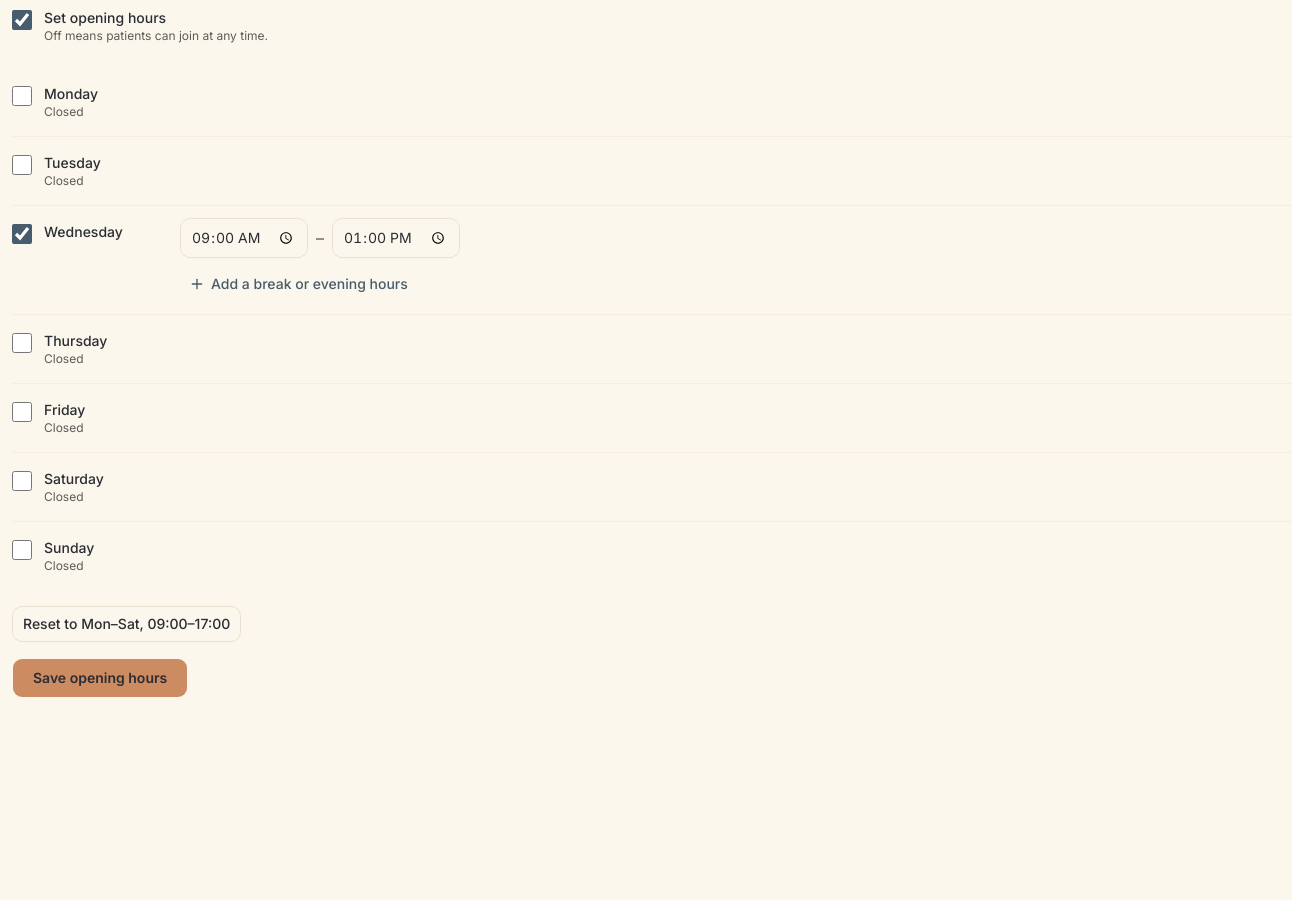
Test: OpeningHoursEditor › shows the problem next to the day and doesn't save
Replace the text in the time field named "Wednesday closing 1" with "08:00" at [396, 238], box [332,218,460,258]
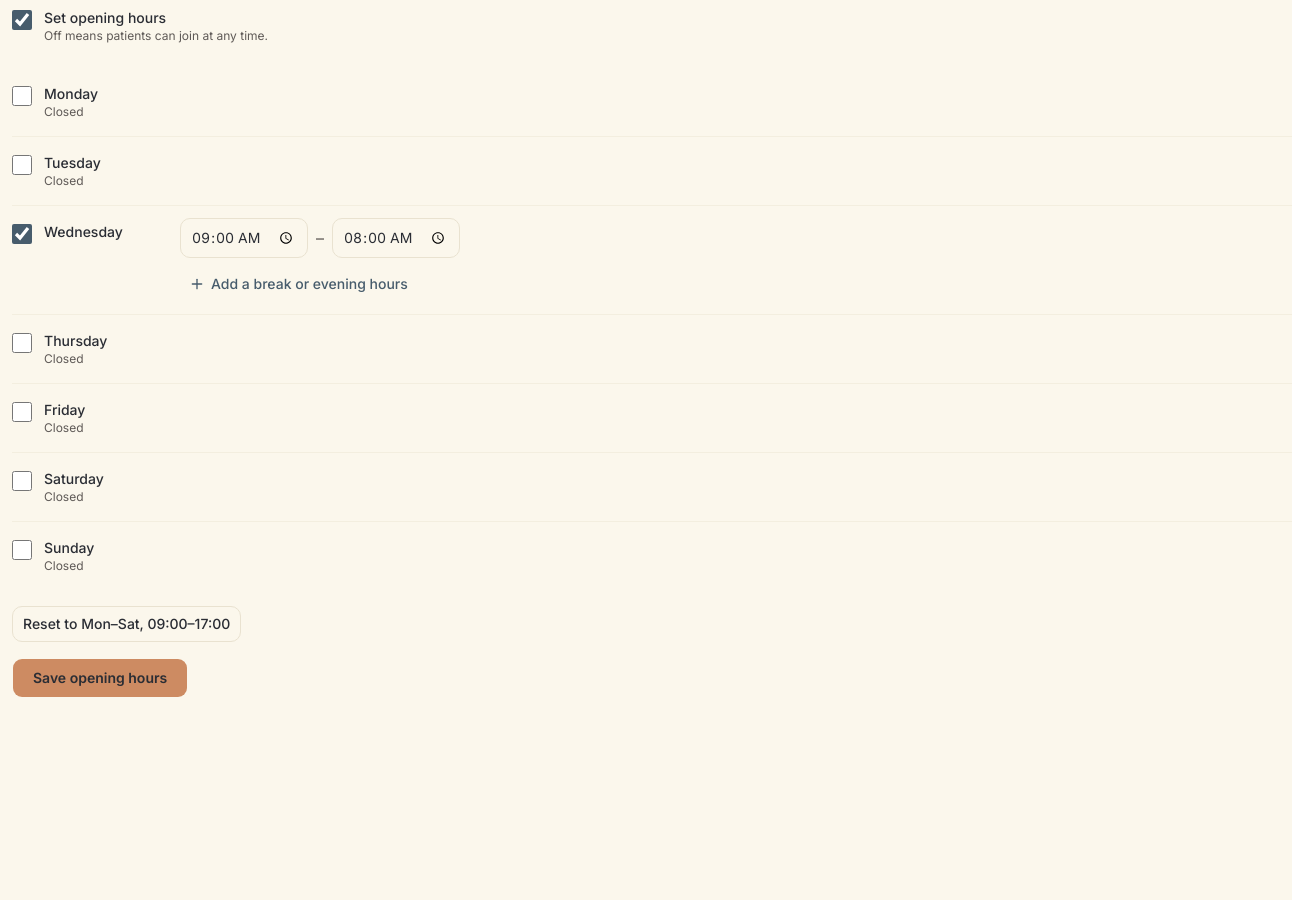
Click the button "Save opening hours" at [100, 678], box [12,658,188,698]
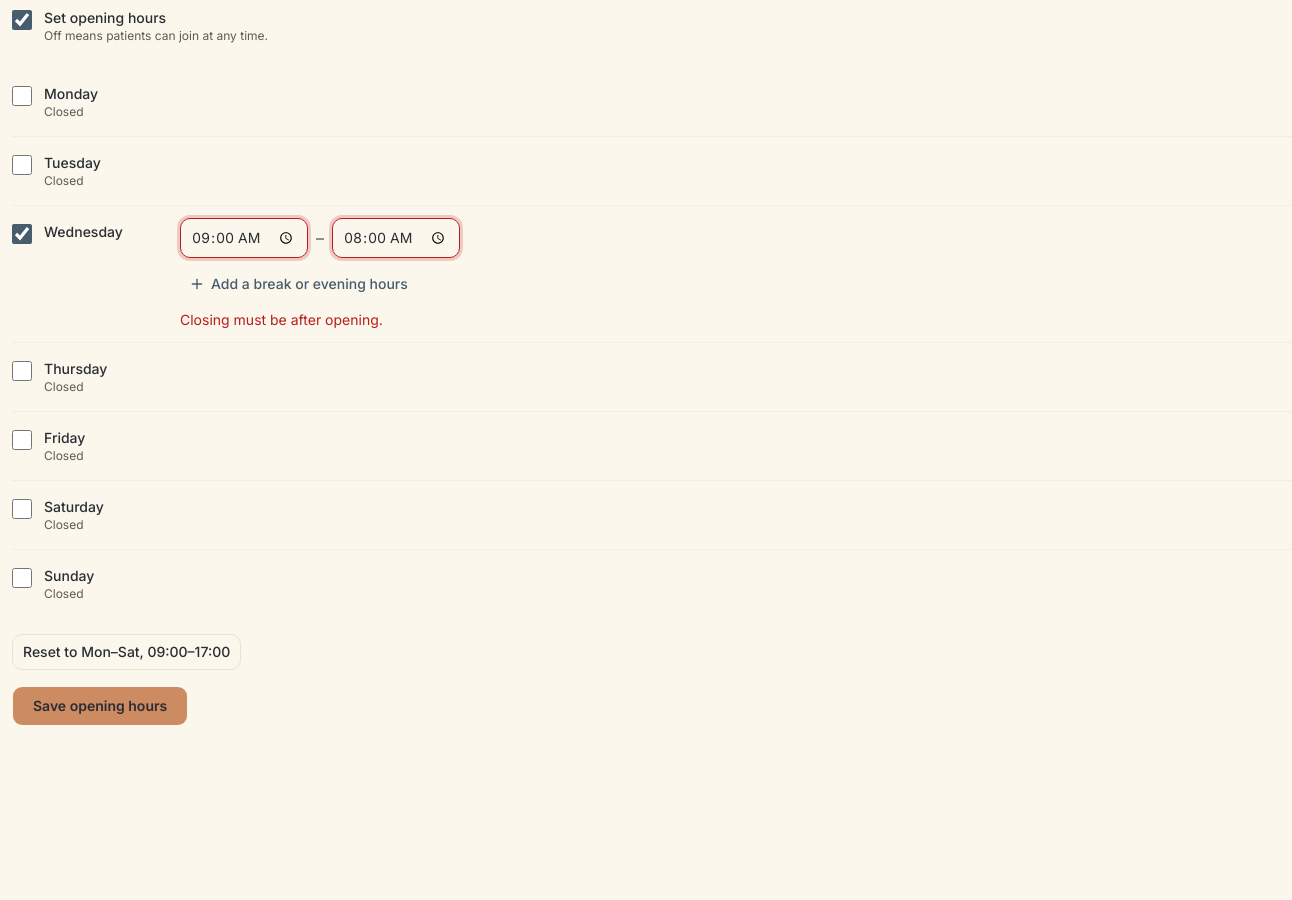
Result: the text "Closing must be after opening." is shown at [180,311,383,328]
